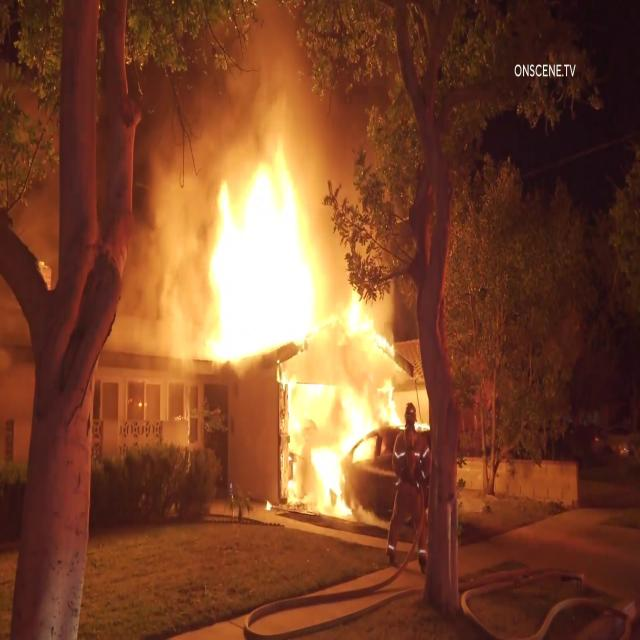fire: (215, 88, 327, 357), (290, 314, 401, 434), (290, 302, 345, 514)
smoke: (137, 176, 208, 346)
